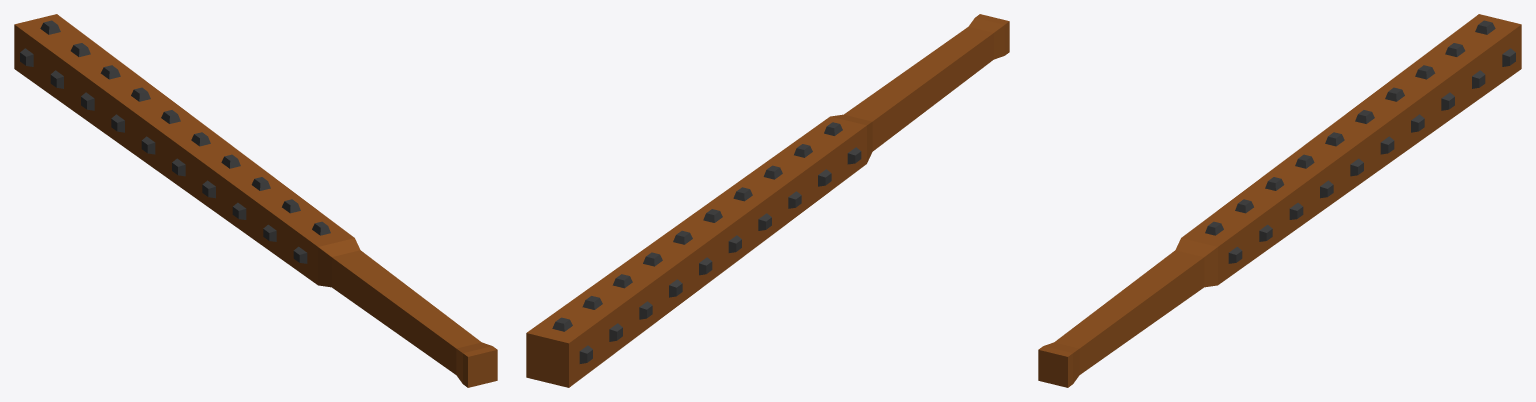
Rendered from Thin Kanabou - Textured Low Poly Asian Weapon Pack by Kickin It Studios.fbx.
The picture shows the model from 3 angles, left to right: view 1: azimuth 30°, elevation 25°; view 2: azimuth 150°, elevation 25°; view 3: azimuth 330°, elevation 25°; orthographic projection.
Parts seen in each view (by area): view 1: Thin Kanabou; view 2: Thin Kanabou; view 3: Thin Kanabou.
Part boxes in pixels (x1,y1,x2,y2): Thin Kanabou: (14,14,497,387); Thin Kanabou: (526,14,1009,387); Thin Kanabou: (1038,14,1521,387).
Size of the model in its own units: 52.82 by 52.82 by 742.
